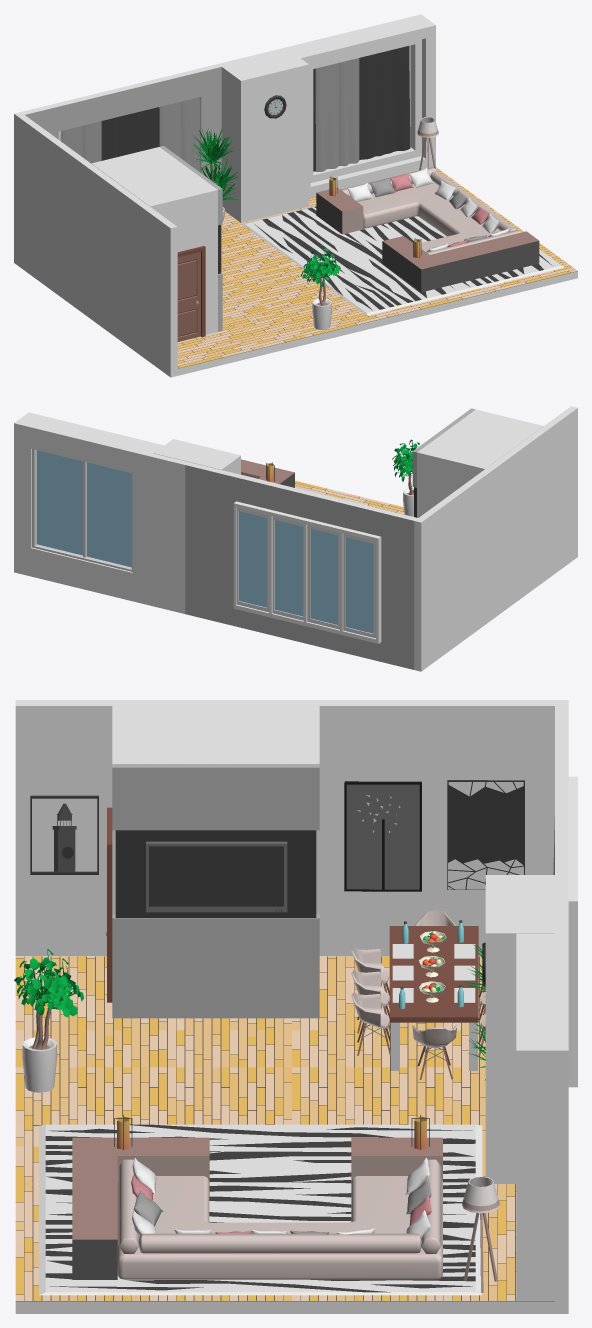
Rendered from room_16.glb.
3 renders of one model, top to bottom at view 1: azimuth 30°, elevation 25°; view 2: azimuth 150°, elevation 25°; view 3: azimuth 270°, elevation 25°, orthographic. The views are drawn at different scales.
Parts seen in each view (by area): view 1: Walls_006.081, Walls_003.016, sofa_018.001, carpet_005.002, Walls_003.015, Walls_011.009, Curtains_028.003, floor_011.004, floor_011.006, Curtains_023.005, Walls_192.014, Walls_003.018 (+19 smaller); view 2: Walls_006.081, window_011.003, window_029.003, Walls_006.002, Walls_192.016, Walls_003.015, Walls_192.013, Walls_192.014, Walls_006.093, Walls_006.082, Walls_006.094, Walls_192.015 (+6 smaller); view 3: Walls_006.081, sofa_018.001, carpet_005.002, Walls_188.029, Walls_011.009, floor_011.004, floor_011.006, Walls_188.028, Walls_003.015, Walls_003.016, floor_011.005, electronics_034.006 (+22 smaller).
Boxes of the visible parts, box(x1,y1,x2,y2) form: Walls_006.081: box(14, 112, 177, 377); Walls_003.016: box(221, 50, 308, 222); sofa_018.001: box(316, 167, 539, 292); carpet_005.002: box(242, 206, 563, 315); Walls_003.015: box(91, 147, 217, 334); Walls_011.009: box(177, 169, 577, 375); Curtains_028.003: box(313, 46, 410, 171); floor_011.004: box(228, 263, 441, 336); floor_011.006: box(177, 280, 305, 368); Curtains_023.005: box(315, 58, 359, 171); Walls_192.014: box(55, 69, 201, 131); Walls_003.018: box(290, 17, 435, 66); Walls_006.081: box(414, 406, 577, 671); window_011.003: box(233, 501, 381, 643); window_029.003: box(32, 449, 132, 571); Walls_006.002: box(132, 449, 188, 613); Walls_192.016: box(185, 462, 241, 626); Walls_003.015: box(417, 409, 543, 517); Walls_192.013: box(380, 510, 417, 669); Walls_192.014: box(238, 475, 383, 536); Walls_006.093: box(31, 547, 132, 601); Walls_006.082: box(14, 420, 34, 576); Walls_006.094: box(31, 424, 136, 473); Walls_192.015: box(238, 610, 380, 661); Walls_006.081: box(15, 700, 568, 956); sofa_018.001: box(72, 1114, 442, 1279); carpet_005.002: box(39, 1124, 482, 1295); Walls_188.029: box(112, 914, 319, 1018); Walls_011.009: box(15, 956, 554, 1313); floor_011.004: box(15, 1067, 291, 1183); floor_011.006: box(15, 956, 291, 1067); Walls_188.028: box(112, 764, 319, 830); Walls_003.015: box(112, 705, 319, 914); Walls_003.016: box(485, 875, 554, 1183); floor_011.005: box(292, 1067, 485, 1176); electronics_034.006: box(146, 841, 287, 912).
Size of the model in its own units: 12 by 4.21 by 8.16.
Materials: 1 (1 with a texture image).
